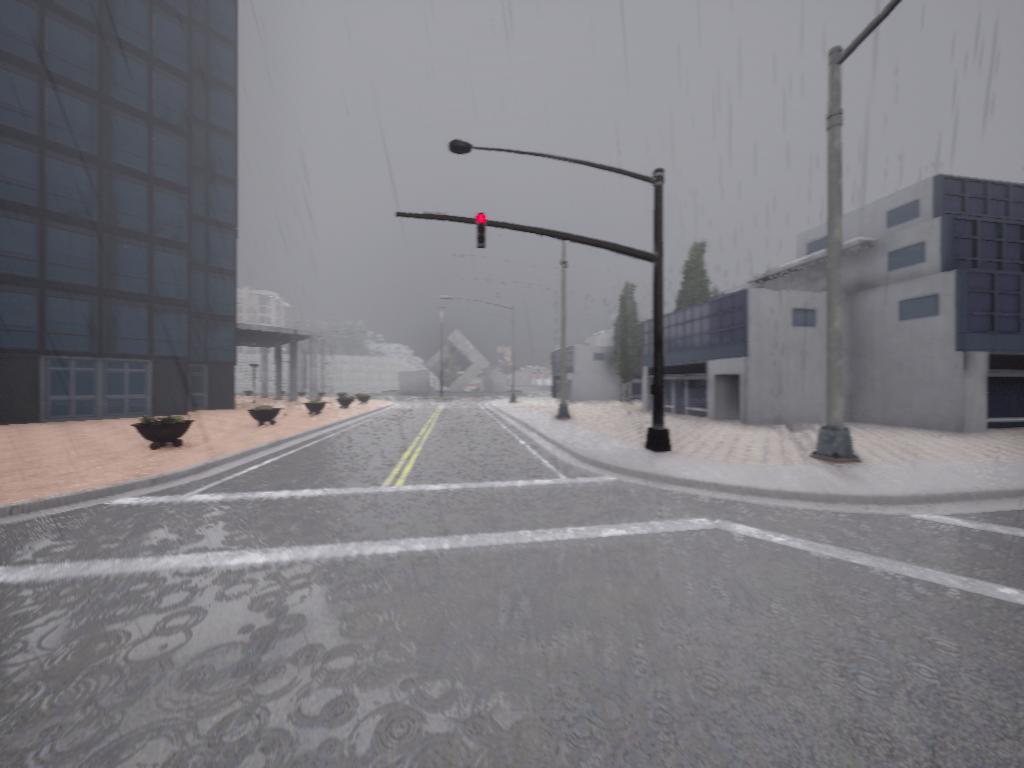traffic_light: (479, 216, 490, 249)
